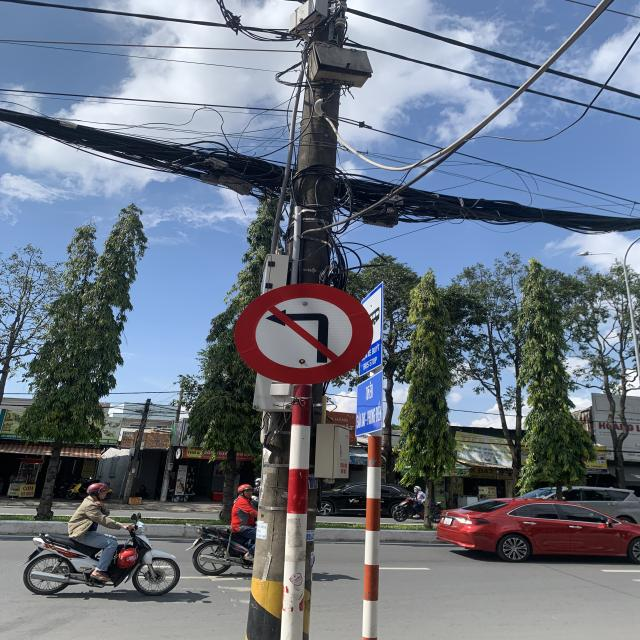Cam_Re_Trai: (234, 284, 373, 384)
